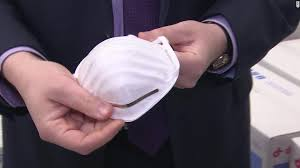mask: (85, 39, 175, 116)
